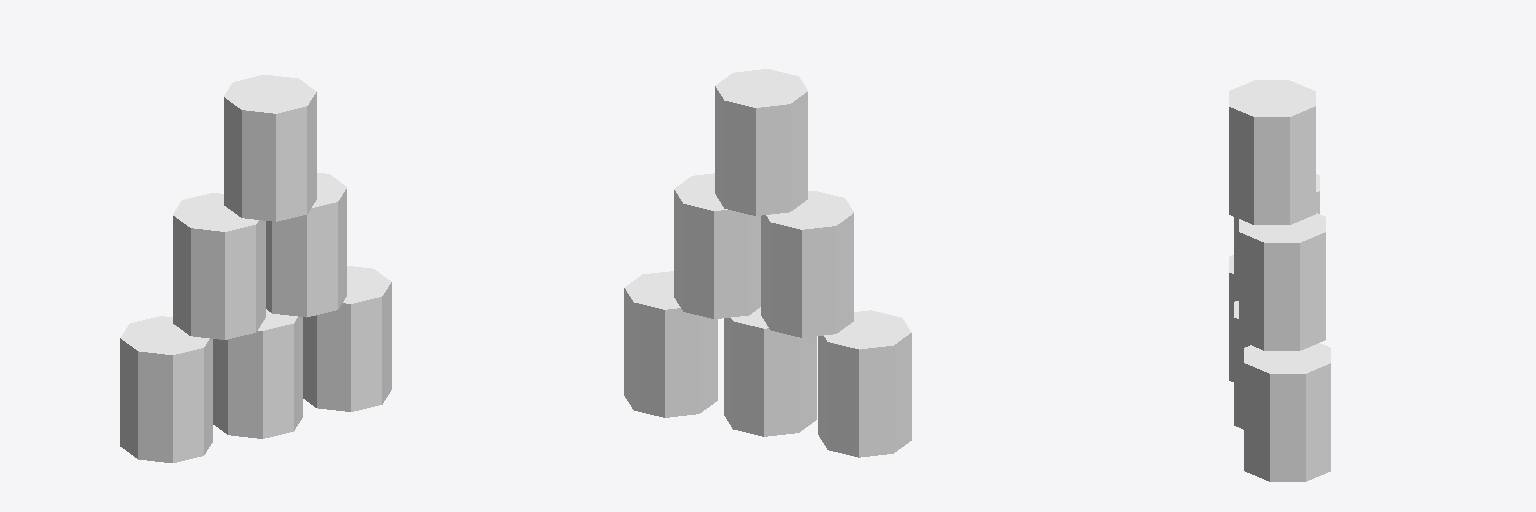
Rendered from assorted_metal_cans_5.obj.
The picture shows the model from 3 angles: view 1: azimuth 30°, elevation 25°; view 2: azimuth 150°, elevation 25°; view 3: azimuth 270°, elevation 25°; orthographic projection.
Parts seen in each view (by area): view 1: can_3, can_2, can_6, can_4, can_5, can_1; view 2: can_3, can_2, can_6, can_4, can_1, can_5; view 3: can_3, can_4, can_1, can_5, can_2, can_6.
Boxes of the visible parts, x1,y1,x2,y2 form: can_3: [224, 75, 316, 221]; can_2: [120, 316, 212, 462]; can_6: [173, 193, 265, 339]; can_4: [303, 266, 391, 411]; can_5: [213, 309, 302, 438]; can_1: [266, 173, 346, 317]; can_3: [715, 69, 807, 215]; can_2: [818, 310, 911, 457]; can_6: [761, 191, 853, 337]; can_4: [624, 271, 717, 417]; can_1: [674, 173, 760, 318]; can_5: [724, 307, 816, 436]; can_3: [1229, 80, 1315, 224]; can_4: [1244, 343, 1330, 481]; can_1: [1239, 213, 1325, 350]; can_5: [1234, 301, 1249, 429]; can_2: [1229, 255, 1236, 381]; can_6: [1234, 174, 1319, 300].
Size of the model in its own units: 0.8696 by 1.03 by 0.2954.